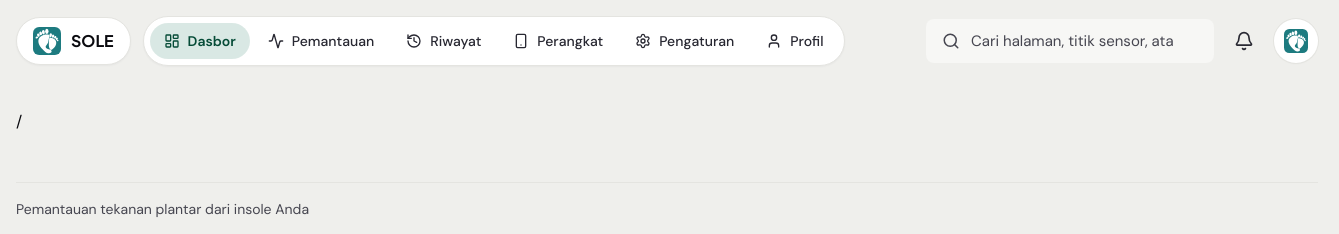
SHELL-07: the account menu is a real disclosure › closes when the pointer lands outside it
The image size is (1339, 234).
Click the button: (1296, 41) [1274,19,1318,63]
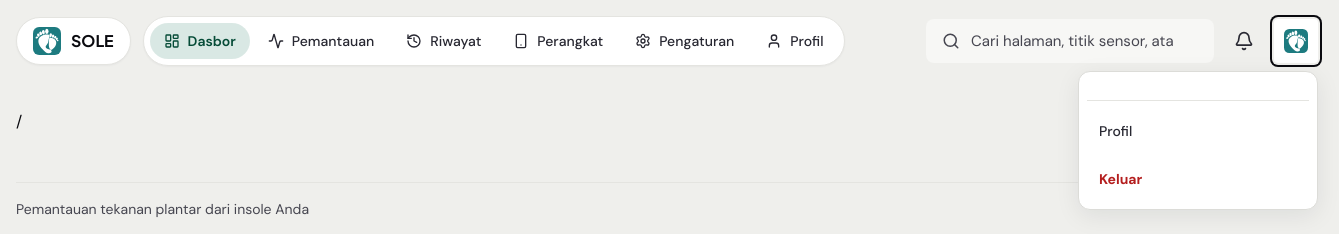
expect the element with id "account-menu" is shown: met, box [1078,71,1318,210]
Click the text with test id "route": (19, 122) [16,111,22,132]
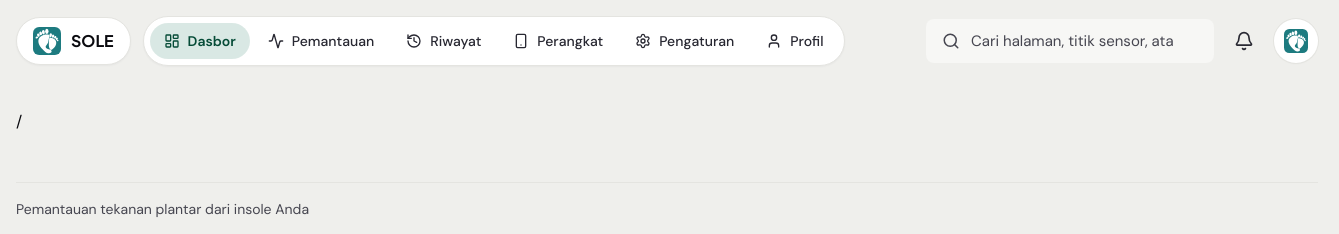
expect the element with id "account-menu" is gone: met
